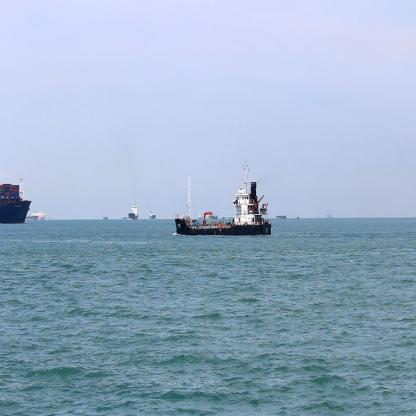Container Ship: (175, 158, 276, 240), (0, 169, 32, 227), (26, 210, 48, 224), (128, 200, 140, 222), (276, 210, 288, 222), (148, 209, 158, 223), (325, 207, 335, 220), (102, 212, 110, 224), (121, 213, 128, 224)
